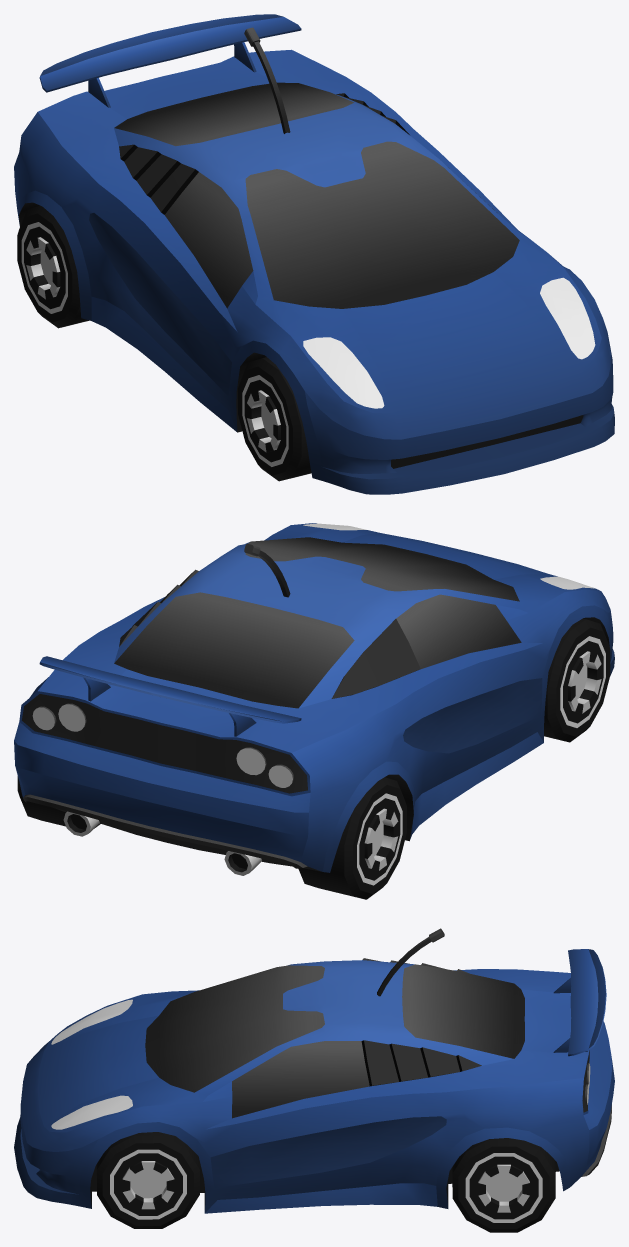
3 renders of one model, top to bottom at view 1: azimuth 30°, elevation 25°; view 2: azimuth 150°, elevation 25°; view 3: azimuth 270°, elevation 25°, orthographic. The views are drawn at different scales.
Visible parts, largest first — view 1: 3, voyagertire.009, voyagertire.011; view 2: 3, voyagertire.011, voyagertire.009, voyagertire.010; view 3: 3, voyagertire.008, voyagertire.010.
Part boxes in pixels (left/top/right/bottom): 3: left=14, top=14, right=614, bottom=494; voyagertire.009: left=238, top=357, right=311, bottom=481; voyagertire.011: left=17, top=205, right=88, bottom=328; 3: left=14, top=523, right=614, bottom=875; voyagertire.011: left=298, top=777, right=406, bottom=899; voyagertire.009: left=544, top=618, right=610, bottom=742; voyagertire.010: left=17, top=776, right=100, bottom=828; 3: left=14, top=928, right=614, bottom=1213; voyagertire.008: left=96, top=1132, right=199, bottom=1228; voyagertire.010: left=452, top=1138, right=555, bottom=1232.
Size of the model in its own units: 203 by 161 by 369.
